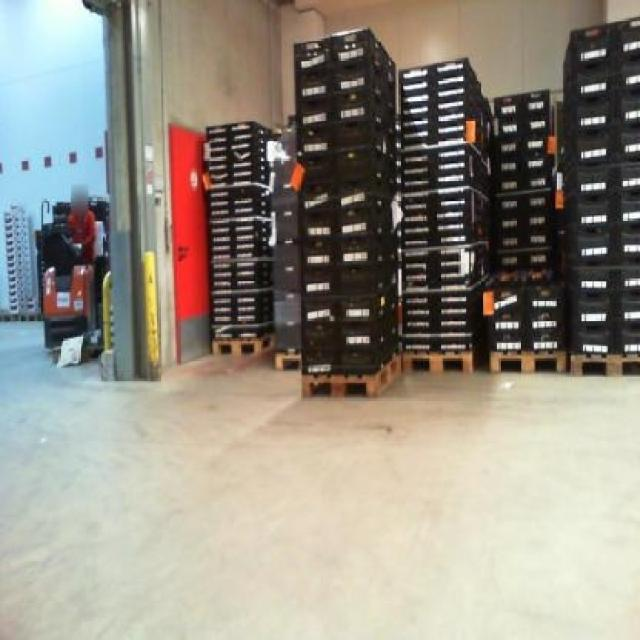floor: (0, 322, 637, 637)
pallets: (192, 0, 637, 122), (292, 28, 397, 392), (397, 57, 489, 366), (562, 15, 637, 372), (483, 88, 563, 369), (202, 120, 271, 352)
